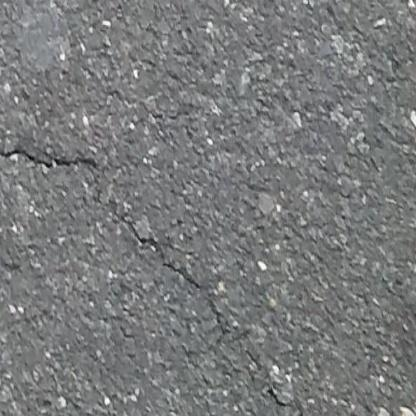Cracks: (120, 217, 206, 294), (0, 116, 101, 174)
